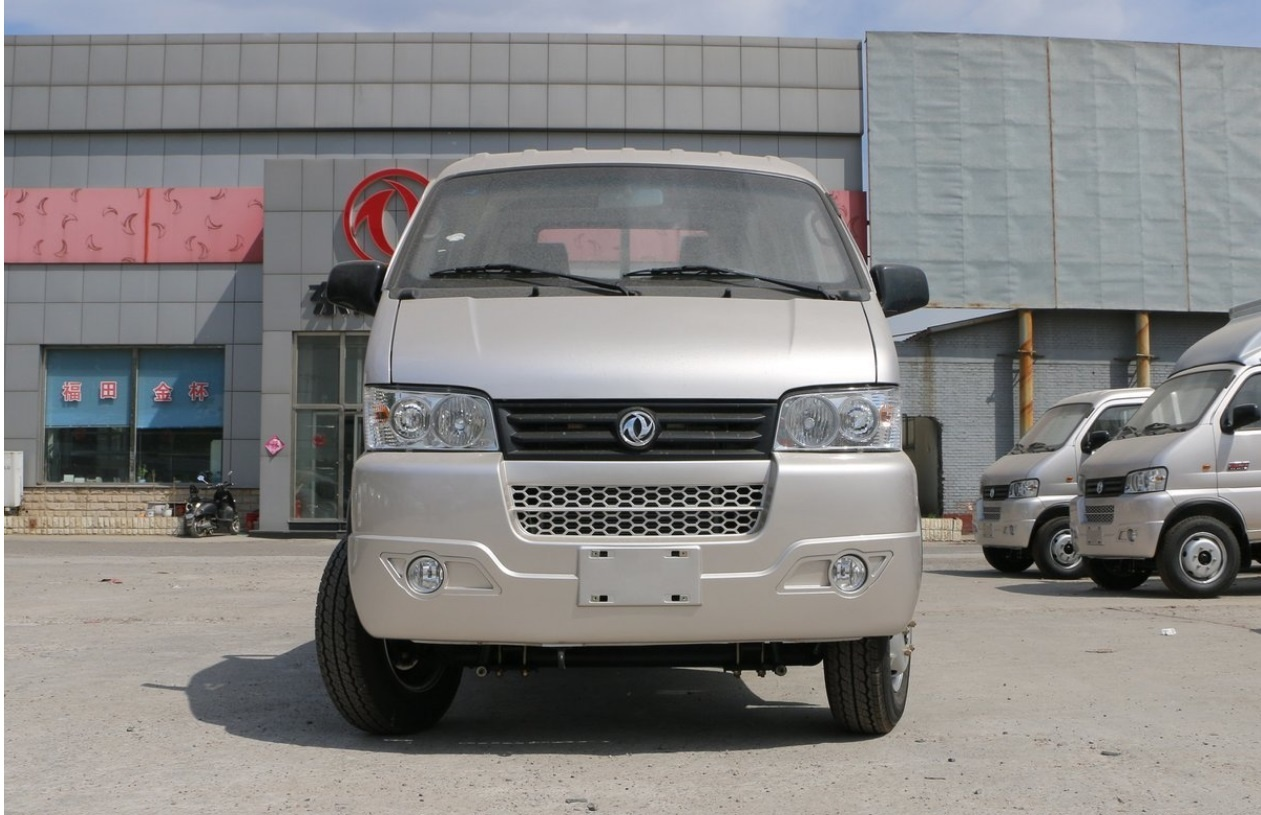minibus: (301, 137, 947, 735)
